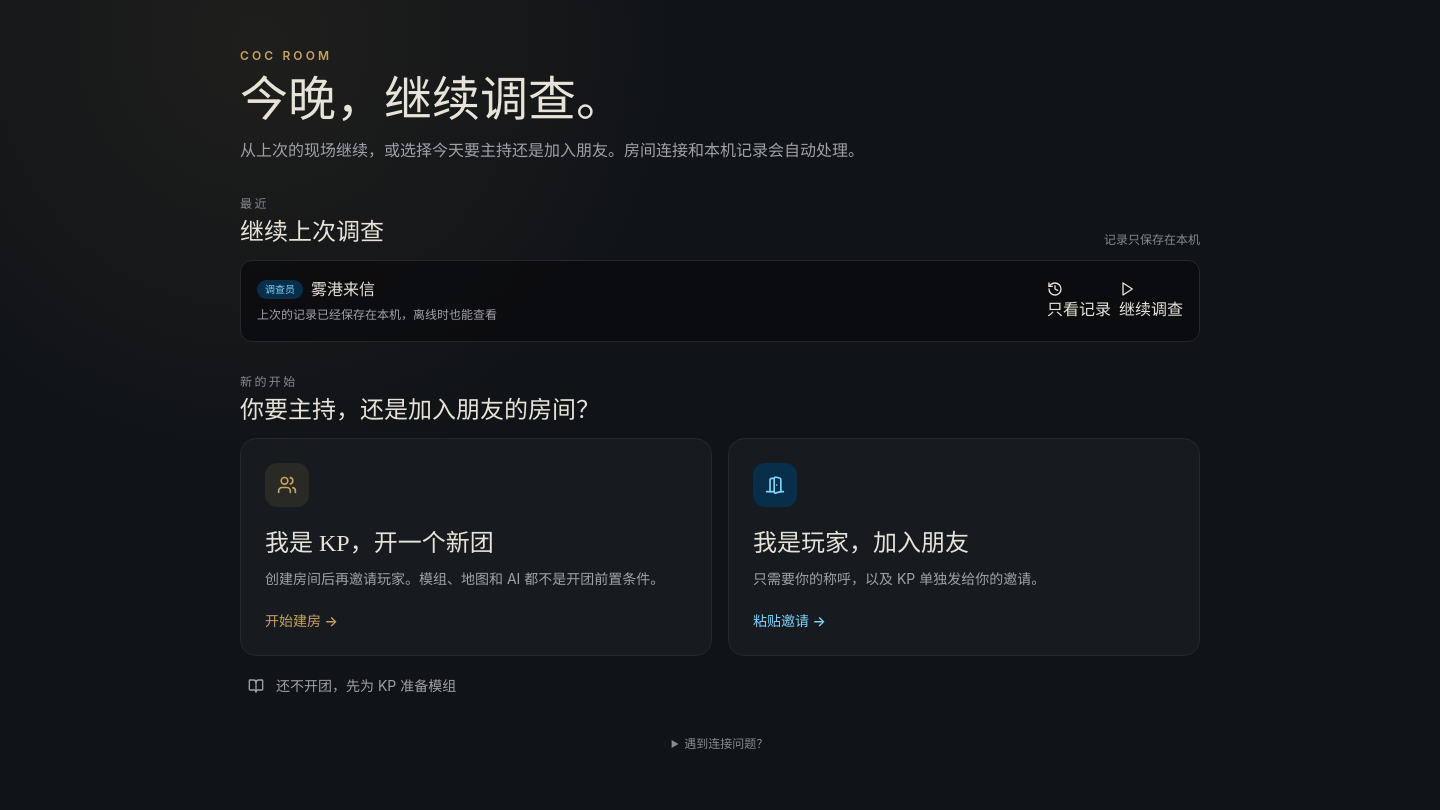
Test case: LobbyView saved rooms › keeps a failed return visible and offers the saved record as recovery
Click the button "继续调查". click: click(1151, 301)
box: x1=1119 y1=281 x2=1183 y2=321
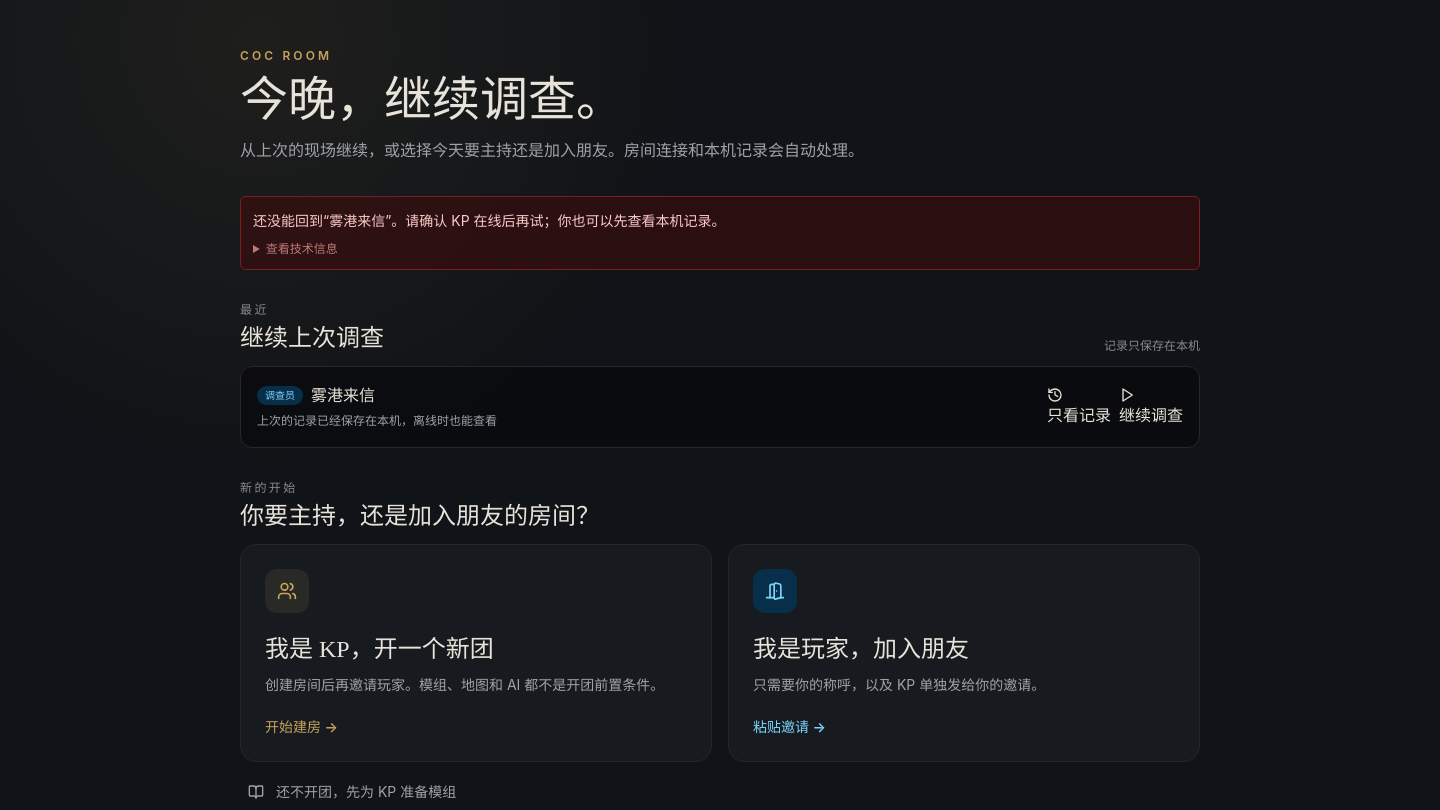
Check: the button "只看记录" is shown, box x1=1047 y1=387 x2=1111 y2=427
Check: the text "还没能回到“雾港来信”。请确认 KP 在线后再试；你也可以先查看本机记录。" is shown, box x1=253 y1=212 x2=726 y2=229
